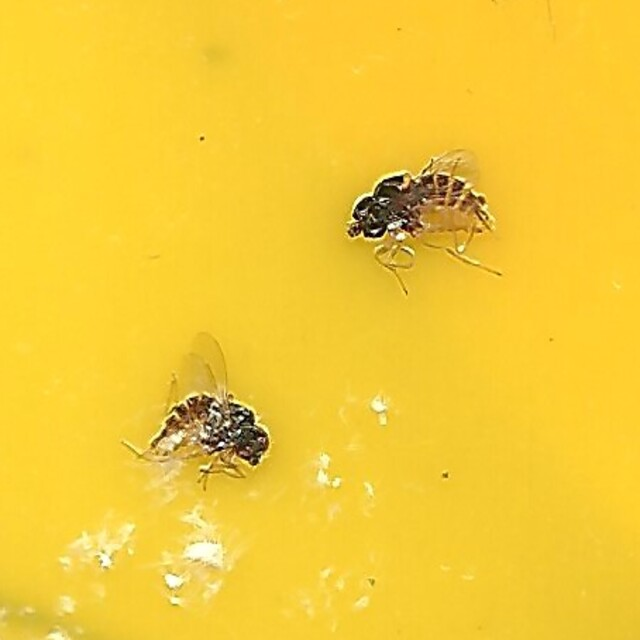Brachycera: (141, 338, 282, 483), (343, 157, 499, 288)
